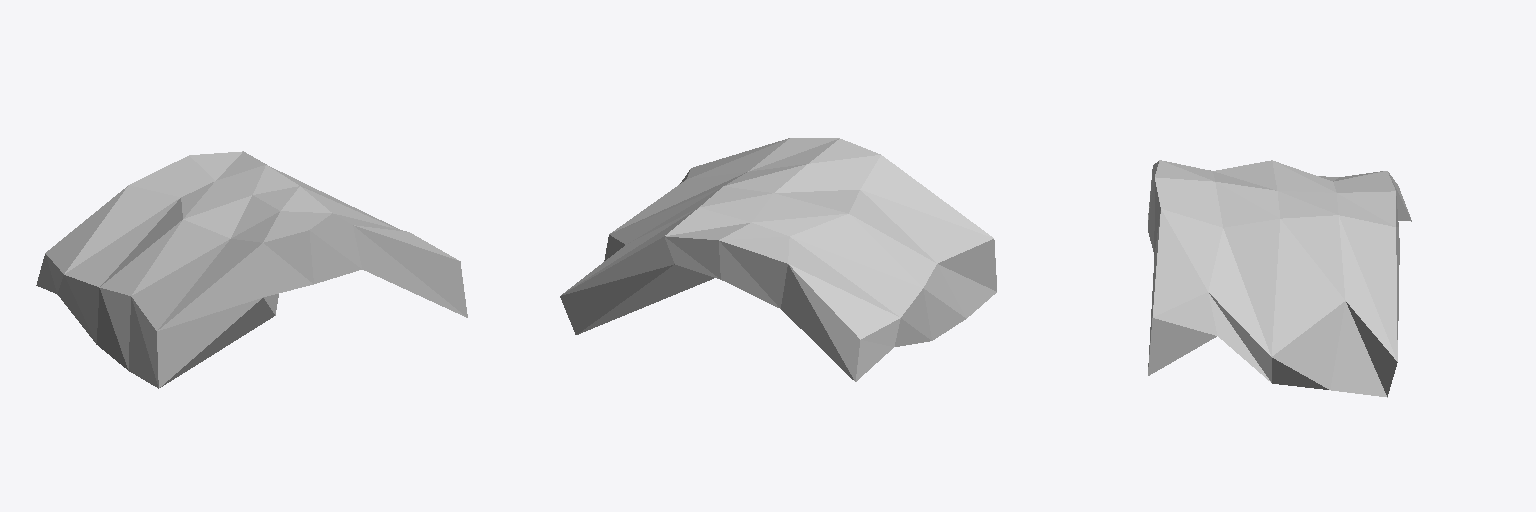
File: Orca Gib Top.obj
The picture shows the model from 3 angles: view 1: azimuth 30°, elevation 25°; view 2: azimuth 150°, elevation 25°; view 3: azimuth 270°, elevation 25°; orthographic projection.
Visible parts, largest first — view 1: Gib_Top; view 2: Gib_Top; view 3: Gib_Top.
Part boxes in pixels (x1,y1,x2,y2): Gib_Top: (36,151,467,388); Gib_Top: (560,138,996,381); Gib_Top: (1148,160,1411,397).
Bounding box in the file's own units: 1.16 × 0.5035 × 0.8156.